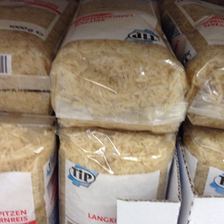rice: (52, 1, 188, 132), (54, 121, 178, 224), (161, 1, 224, 128), (1, 1, 71, 113), (1, 116, 58, 223)
